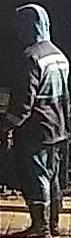gloves: (0, 114, 19, 150)
vest: (10, 44, 70, 142)
